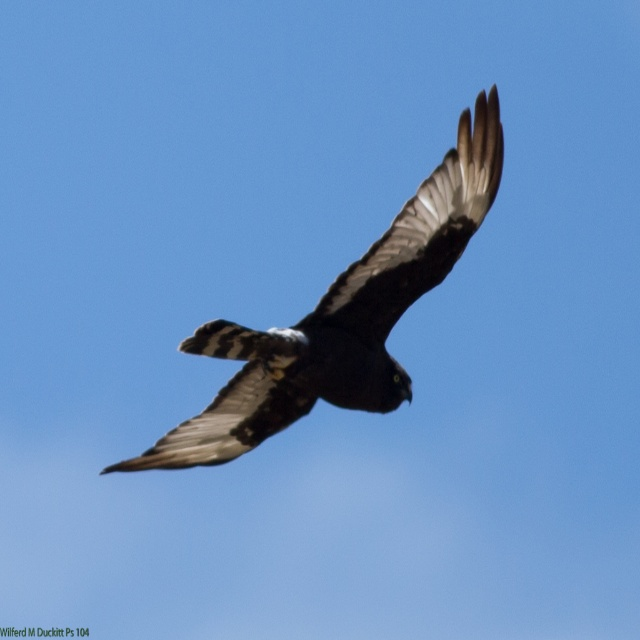Eagle: (98, 82, 504, 476)
